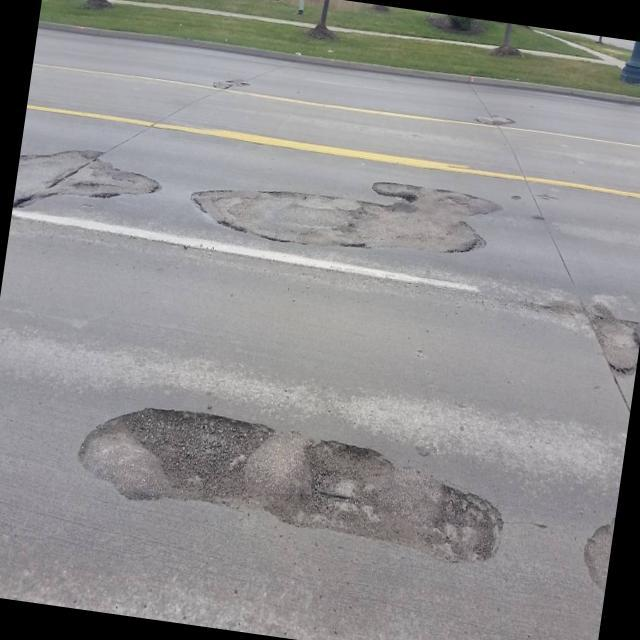Pothole: (286, 433, 512, 582), (198, 172, 484, 284), (89, 394, 268, 533), (15, 142, 166, 228), (581, 292, 640, 384)
